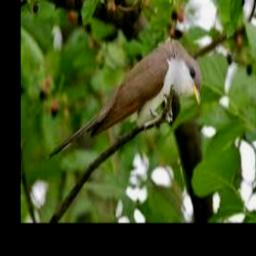Cuckoo: (49, 38, 200, 158)
